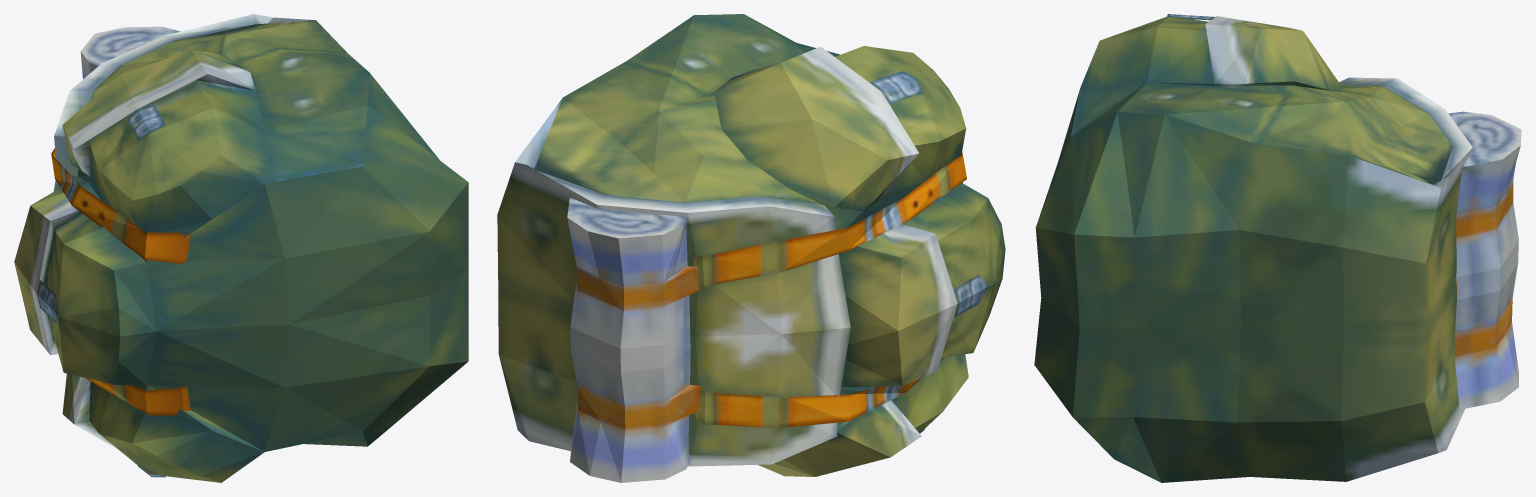
File: WGBCKPCK.bgf.obj
3 renders of one model, left to right at view 1: azimuth 30°, elevation 25°; view 2: azimuth 150°, elevation 25°; view 3: azimuth 270°, elevation 25°, orthographic. The views are drawn at different scales.
Visible parts, largest first — view 1: DUMMY; view 2: DUMMY; view 3: DUMMY.
Boxes of the visible parts, left/top/right/bottom form: DUMMY: left=14, top=14, right=468, bottom=482; DUMMY: left=497, top=14, right=1005, bottom=482; DUMMY: left=1034, top=14, right=1521, bottom=482.
Bounding box in the file's own units: 0.633 × 0.659 × 0.709.
Materials: 1 (1 with a texture image).
